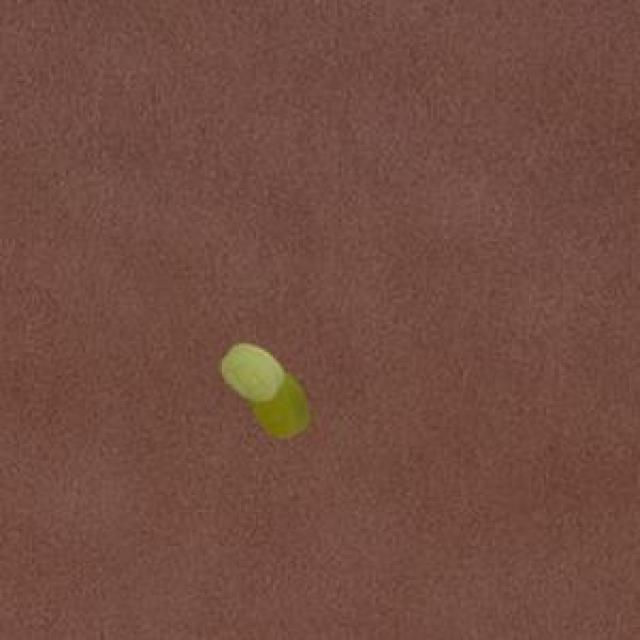Decolgen: (213, 332, 320, 462)
